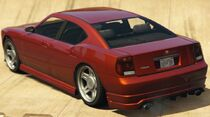car: (2, 10, 209, 112)
